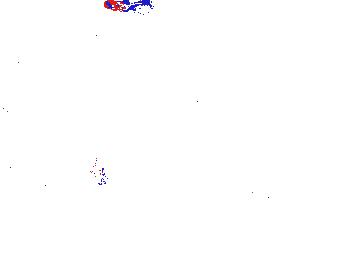X-ray fish: (89, 154, 111, 186)
red belly glassfish: (102, 1, 149, 12)
